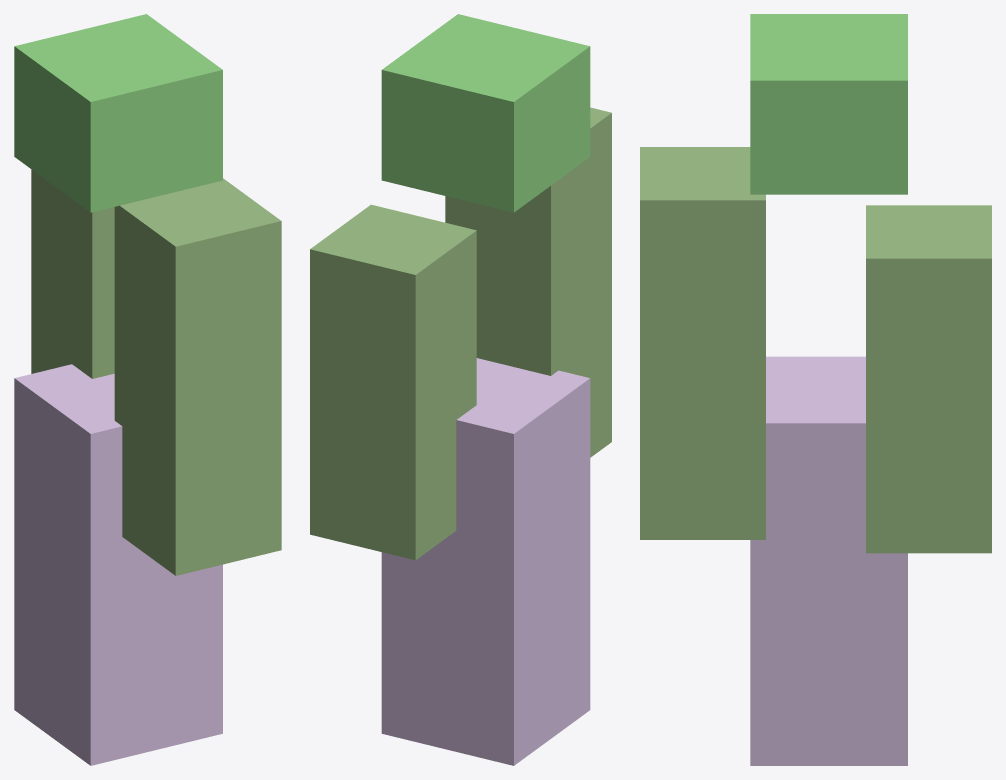
The model's file is Item_Herb_AMF_Furfern_Bundle1.glb.
3 renders of one model, left to right at view 1: azimuth 30°, elevation 25°; view 2: azimuth 150°, elevation 25°; view 3: azimuth 270°, elevation 25°, orthographic. The views are drawn at different scales.
Visible parts, largest first — view 1: Item_Herb_AMF_Furfern_Bundle1; view 2: Item_Herb_AMF_Furfern_Bundle1; view 3: Item_Herb_AMF_Furfern_Bundle1.
Boxes of the visible parts, box(x1,y1,x2,y2) form: Item_Herb_AMF_Furfern_Bundle1: box(14, 14, 281, 765); Item_Herb_AMF_Furfern_Bundle1: box(310, 14, 611, 765); Item_Herb_AMF_Furfern_Bundle1: box(640, 14, 991, 765).
Bounding box in the file's own units: 0.0618 × 0.24 × 0.1116.
